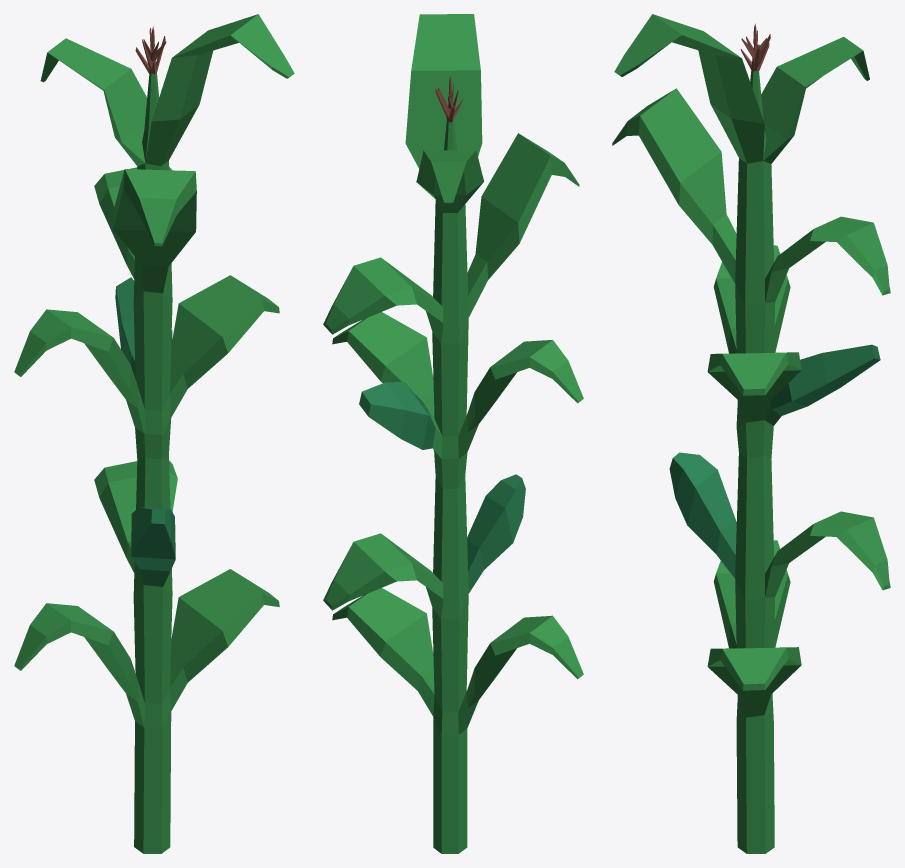
Rendered from 1-4_corn.glb.
3 views of the same model, side by side, from view 1: azimuth 30°, elevation 25°; view 2: azimuth 150°, elevation 25°; view 3: azimuth 270°, elevation 25° (orthographic). The views are drawn at different scales.
Parts seen in each view (by area): view 1: corn; view 2: corn; view 3: corn.
Boxes of the visible parts, <box> form: corn: <box>14,14,294,853</box>; corn: <box>323,14,583,853</box>; corn: <box>612,14,890,853</box>.
Bounding box in the file's own units: 0.7212 × 2.25 × 0.6704.
